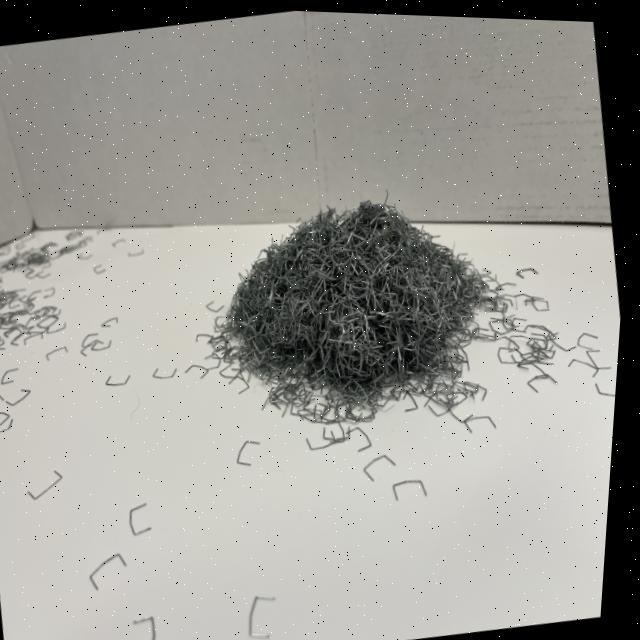staples: (192, 171, 510, 421)
